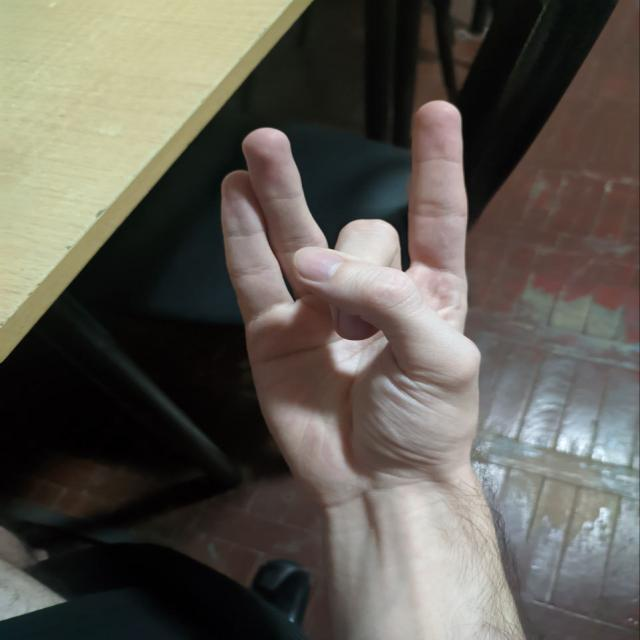r: (158, 85, 514, 488)
